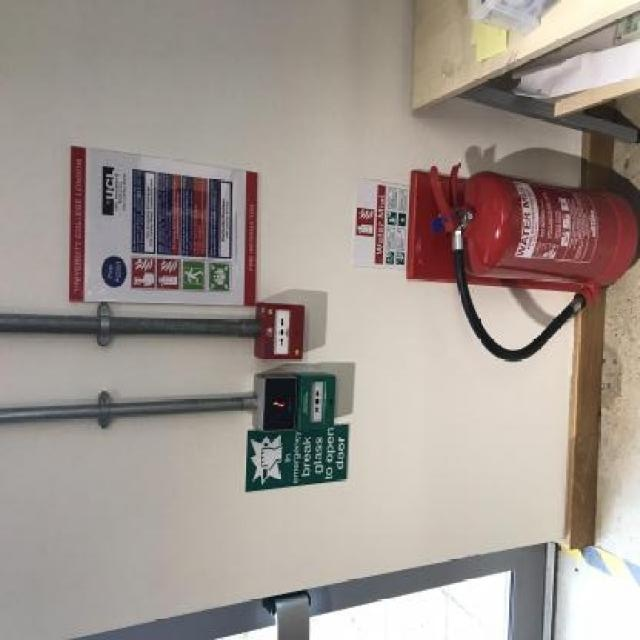fire extinguisher: (427, 160, 640, 363)
